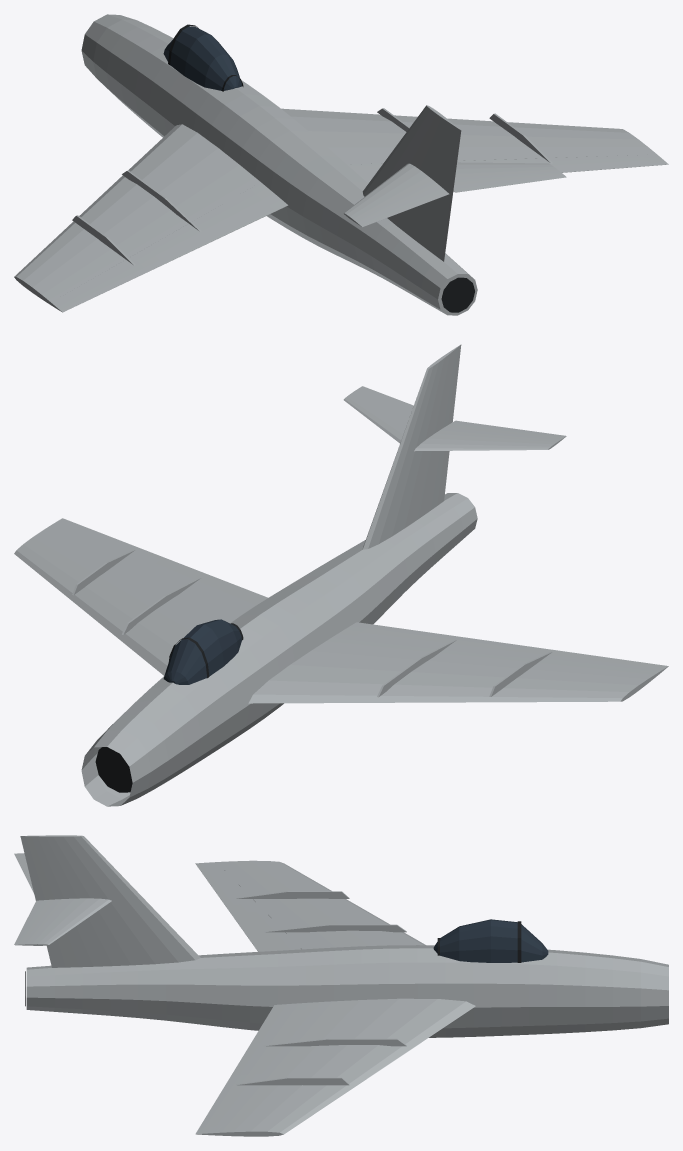
File: mig15bis.glb
3 renders of one model, top to bottom at view 1: azimuth 30°, elevation 25°; view 2: azimuth 150°, elevation 25°; view 3: azimuth 270°, elevation 25°, orthographic. The views are drawn at different scales.
Visible parts, largest first — view 1: Fuselage, Wing L, Wing R, Flap L, Vertical Fin, Rudder, Cockpit Glass, Stabilizer L, Aileron L, Aileron R, Stabilizer R, Elevator L (+3 smaller); view 2: Fuselage, Wing L, Wing R, Vertical Fin, Cockpit Glass, Flap L, Rudder, Flap R, Stabilizer L, Stabilizer R, Intake, Aileron L (+2 smaller); view 3: Fuselage, Wing R, Wing L, Vertical Fin, Rudder, Cockpit Glass, Flap R, Stabilizer R, Flap L, Aileron R, Aileron L, Elevator R.
Boxes of the visible parts, left/top/right/bottom form: Fuselage: left=81, top=14, right=477, bottom=315; Wing L: left=14, top=124, right=288, bottom=312; Wing R: left=281, top=108, right=668, bottom=183; Flap L: left=146, top=189, right=275, bottom=263; Vertical Fin: left=362, top=105, right=449, bottom=236; Rudder: left=410, top=121, right=461, bottom=261; Cockpit Glass: left=163, top=26, right=241, bottom=90; Stabilizer L: left=343, top=163, right=434, bottom=222; Aileron L: left=62, top=256, right=148, bottom=306; Aileron R: left=533, top=155, right=652, bottom=172; Stabilizer R: left=455, top=162, right=559, bottom=179; Elevator L: left=356, top=182, right=449, bottom=226; Fuselage: left=81, top=493, right=477, bottom=806; Wing L: left=248, top=622, right=668, bottom=703; Wing R: left=14, top=518, right=244, bottom=675; Vertical Fin: left=362, top=353, right=449, bottom=549; Cockpit Glass: left=163, top=619, right=241, bottom=684; Flap L: left=349, top=624, right=527, bottom=656; Rudder: left=417, top=344, right=461, bottom=519; Flap R: left=146, top=557, right=268, bottom=612; Stabilizer L: left=414, top=429, right=560, bottom=451; Stabilizer R: left=343, top=390, right=409, bottom=443; Intake: left=95, top=747, right=132, bottom=792; Aileron L: left=533, top=649, right=652, bottom=671; Fuselage: left=26, top=945, right=668, bottom=1037; Wing R: left=195, top=998, right=475, bottom=1136; Wing L: left=195, top=860, right=425, bottom=949; Vertical Fin: left=43, top=835, right=200, bottom=966; Rudder: left=20, top=835, right=106, bottom=967; Cockpit Glass: left=433, top=919, right=548, bottom=962; Flap R: left=231, top=1009, right=316, bottom=1075; Stabilizer R: left=26, top=898, right=111, bottom=945; Flap L: left=231, top=911, right=301, bottom=951; Aileron R: left=199, top=1084, right=254, bottom=1127; Aileron L: left=199, top=867, right=256, bottom=905; Elevator R: left=14, top=899, right=61, bottom=945.
Size of the model in its own units: 10.08 by 3.45 by 10.3.
